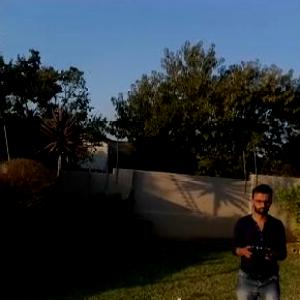follow: (226, 179, 290, 299)
